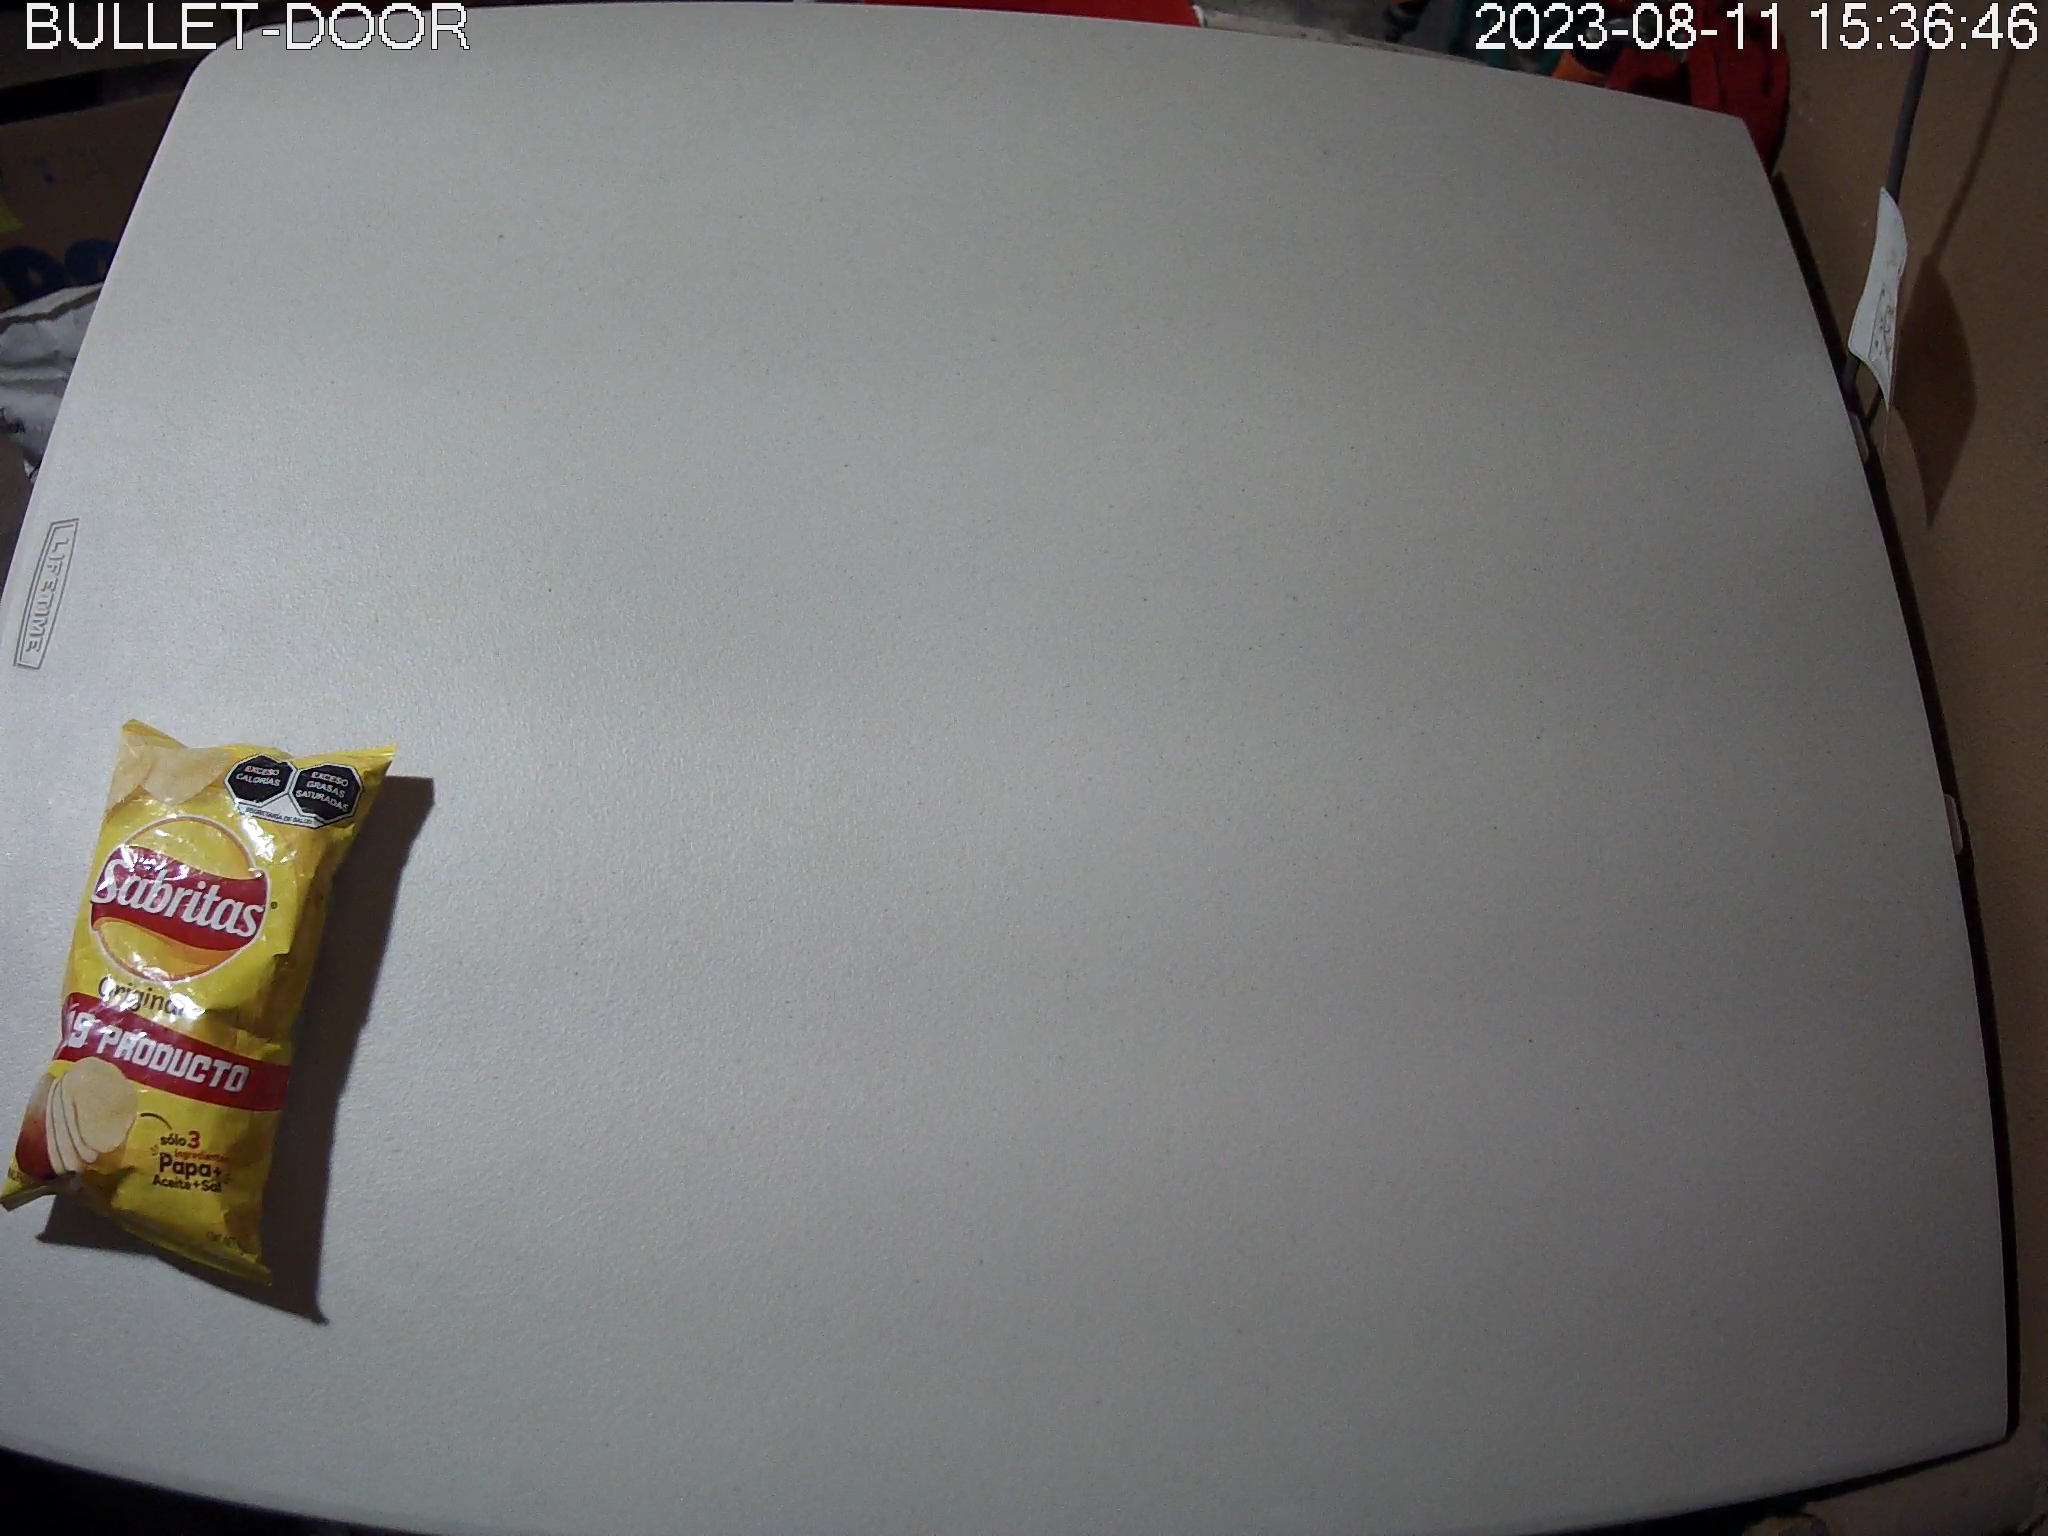Sabritas_45_F: (3, 721, 397, 1296)
